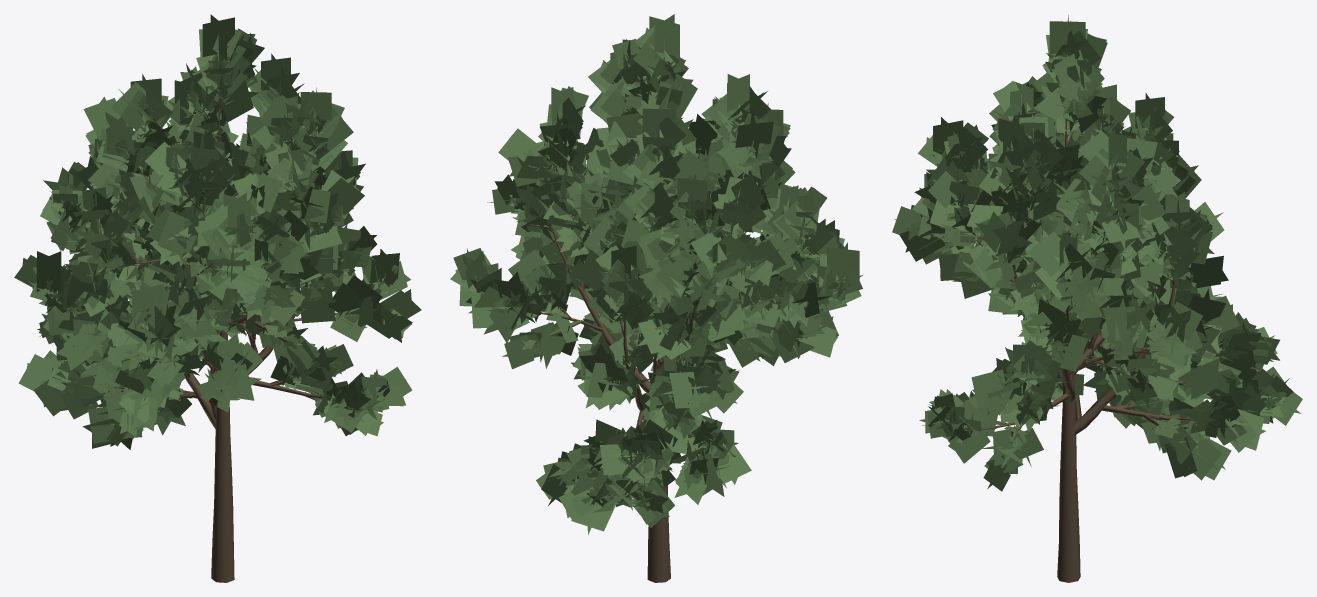
File: tree_roadside.glb
3 views of the same model, side by side, from view 1: azimuth 30°, elevation 25°; view 2: azimuth 150°, elevation 25°; view 3: azimuth 270°, elevation 25° (orthographic).
Visible parts, largest first — view 1: foliage, trunk; view 2: foliage, trunk; view 3: foliage, trunk.
Boxes of the visible parts, x1,y1,x2,y2 form: foliage: (14, 14, 421, 449); trunk: (72, 93, 380, 582); foliage: (450, 14, 863, 534); trunk: (542, 60, 836, 582); foliage: (892, 15, 1302, 491); trunk: (963, 118, 1214, 582).
Size of the model in its own units: 10.19 by 15 by 10.09.
